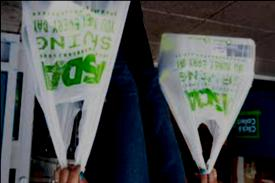Plastic: (156, 32, 258, 175)
